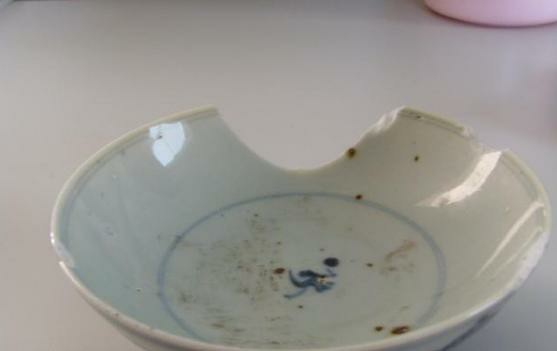ceramics: (42, 95, 557, 351)
